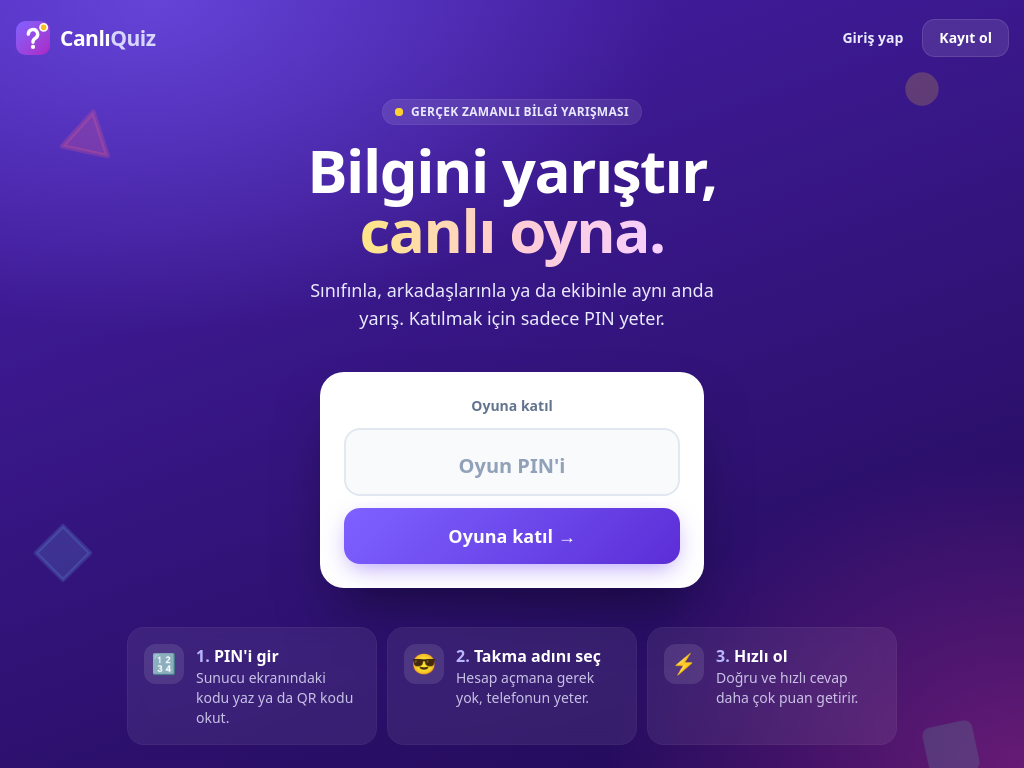
Test case: ana sayfa › eksik PIN girilince uyarır ve yönlendirmez
Type "123" into the field labelled "Oyuna katıl".
click(512, 462); type("123")  # box [344,428,680,496]
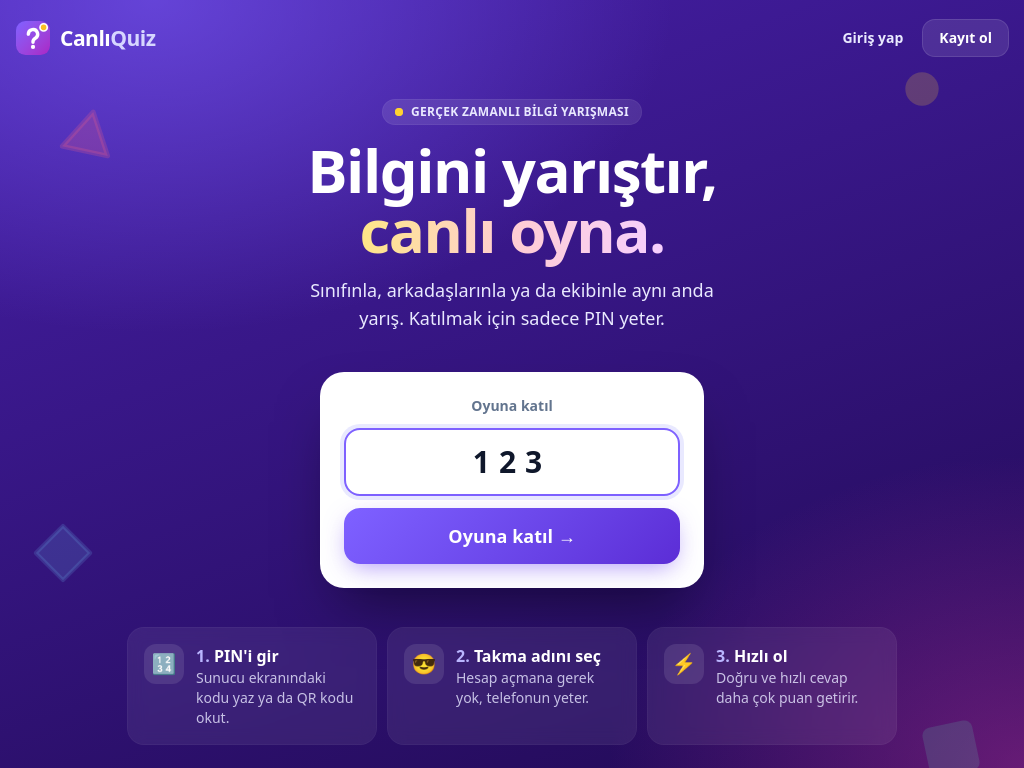
Click the button "Oyuna katıl →".
click(512, 536)  # box [344,508,680,564]
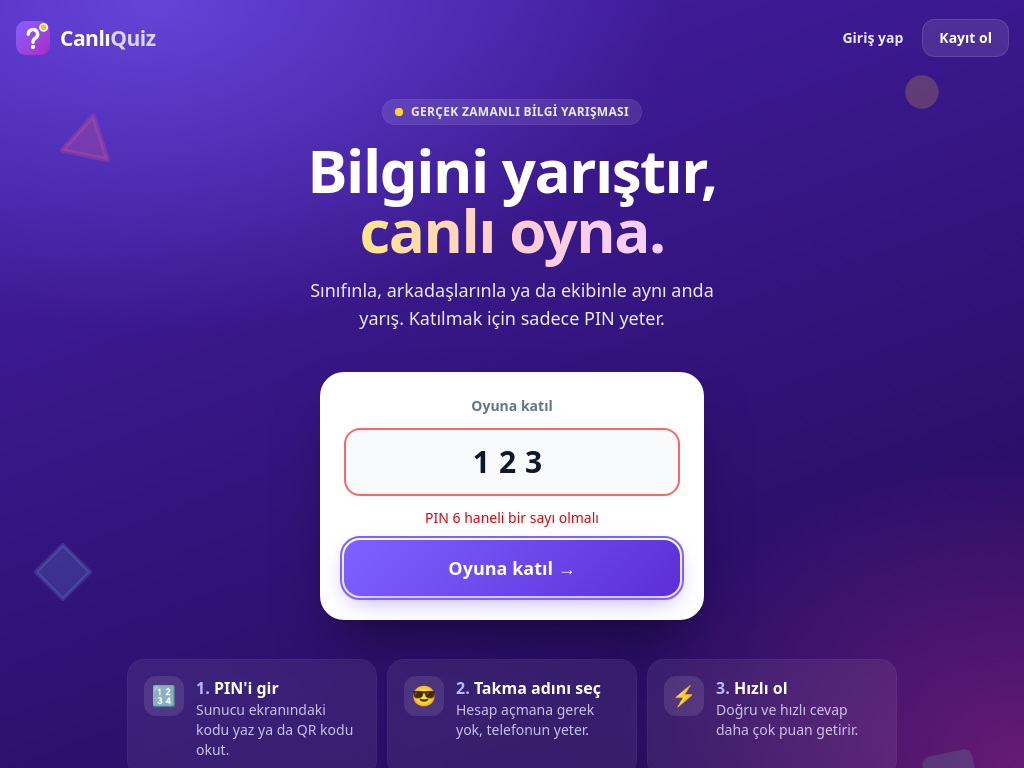
Now the message reads "PIN 6 haneli bir sayı olmalı", box [425,508,599,527]
